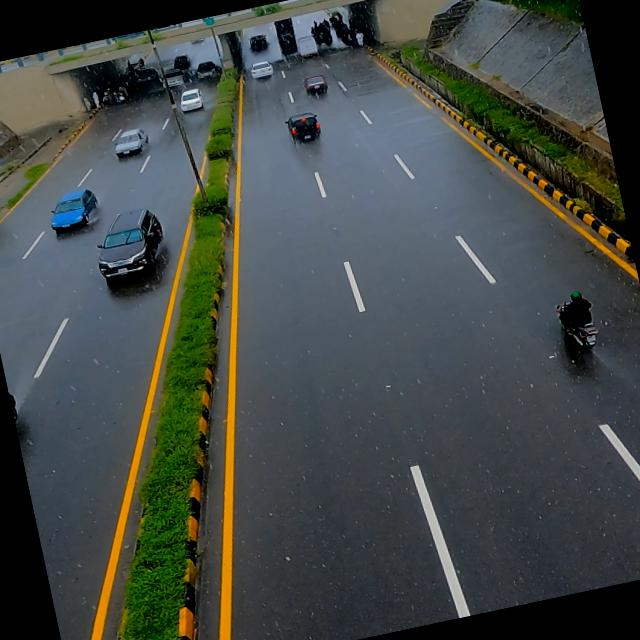Vehicle: (84, 203, 171, 290), (39, 182, 100, 246), (106, 124, 152, 166), (279, 106, 322, 150), (297, 68, 331, 101)
